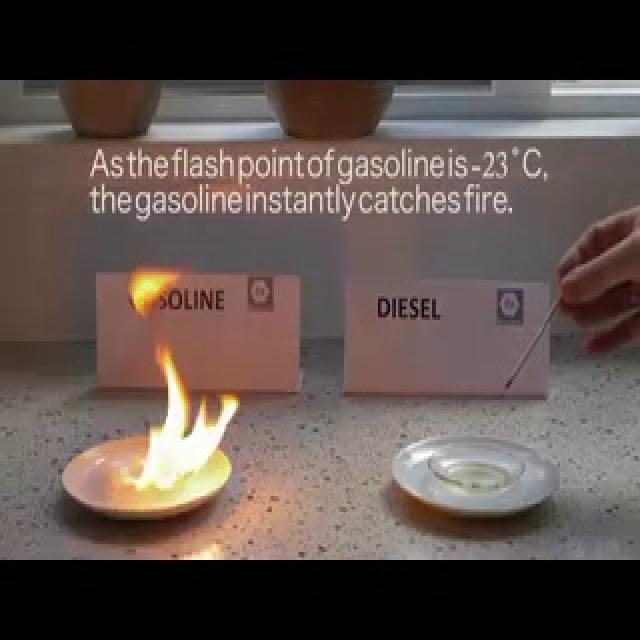Fire: (119, 342, 242, 497)
